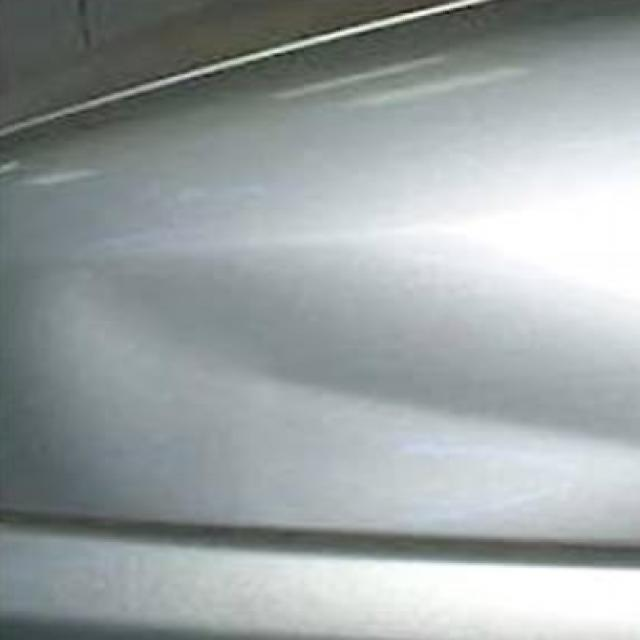dents: (52, 278, 640, 487)
